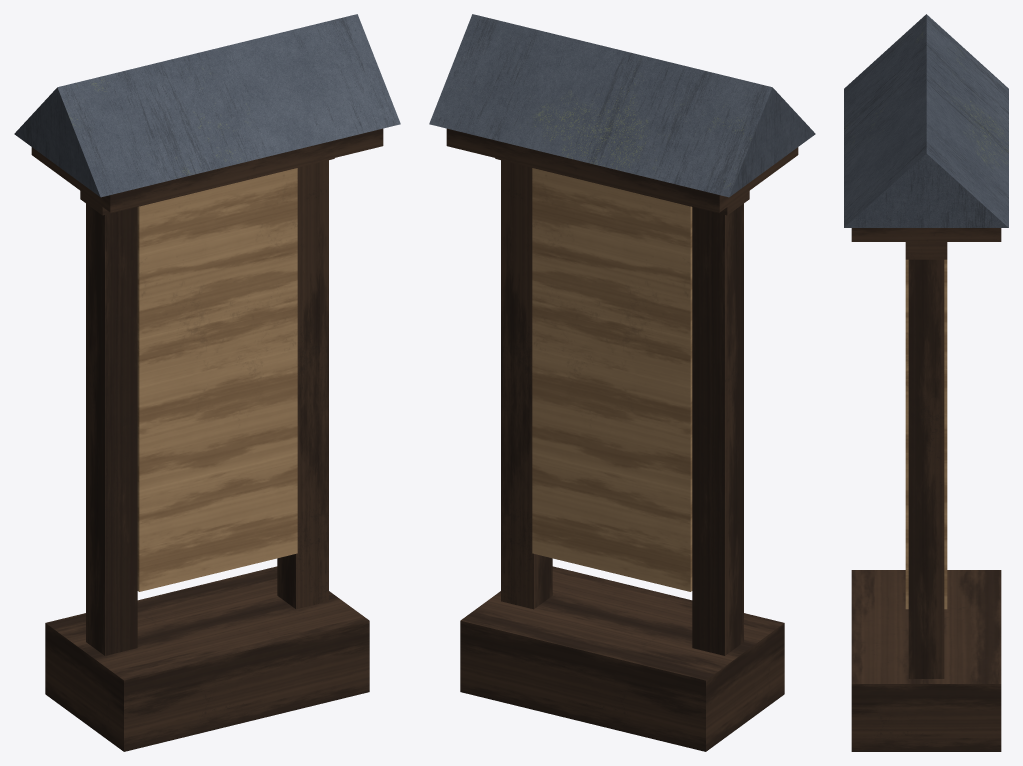
File: HO_Prop_Signboard_Standing.fbx
The picture shows the model from 3 angles, left to right: view 1: azimuth 30°, elevation 25°; view 2: azimuth 150°, elevation 25°; view 3: azimuth 270°, elevation 25°; orthographic projection. The views are drawn at different scales.
Parts seen in each view (by area): view 1: HO_Prop_Signboard_Standing, HO_Prop_Signboard_Standing_Face; view 2: HO_Prop_Signboard_Standing, HO_Prop_Signboard_Standing_Face; view 3: HO_Prop_Signboard_Standing, HO_Prop_Signboard_Standing_Face.
Boxes of the visible parts, <box> form: HO_Prop_Signboard_Standing: <box>14,14,400,751</box>; HO_Prop_Signboard_Standing_Face: <box>137,168,297,591</box>; HO_Prop_Signboard_Standing: <box>429,14,815,751</box>; HO_Prop_Signboard_Standing_Face: <box>532,168,692,591</box>; HO_Prop_Signboard_Standing: <box>844,14,1008,751</box>; HO_Prop_Signboard_Standing_Face: <box>905,259,947,609</box>.
Size of the model in its own units: 2.2 by 4.5 by 1.1.
